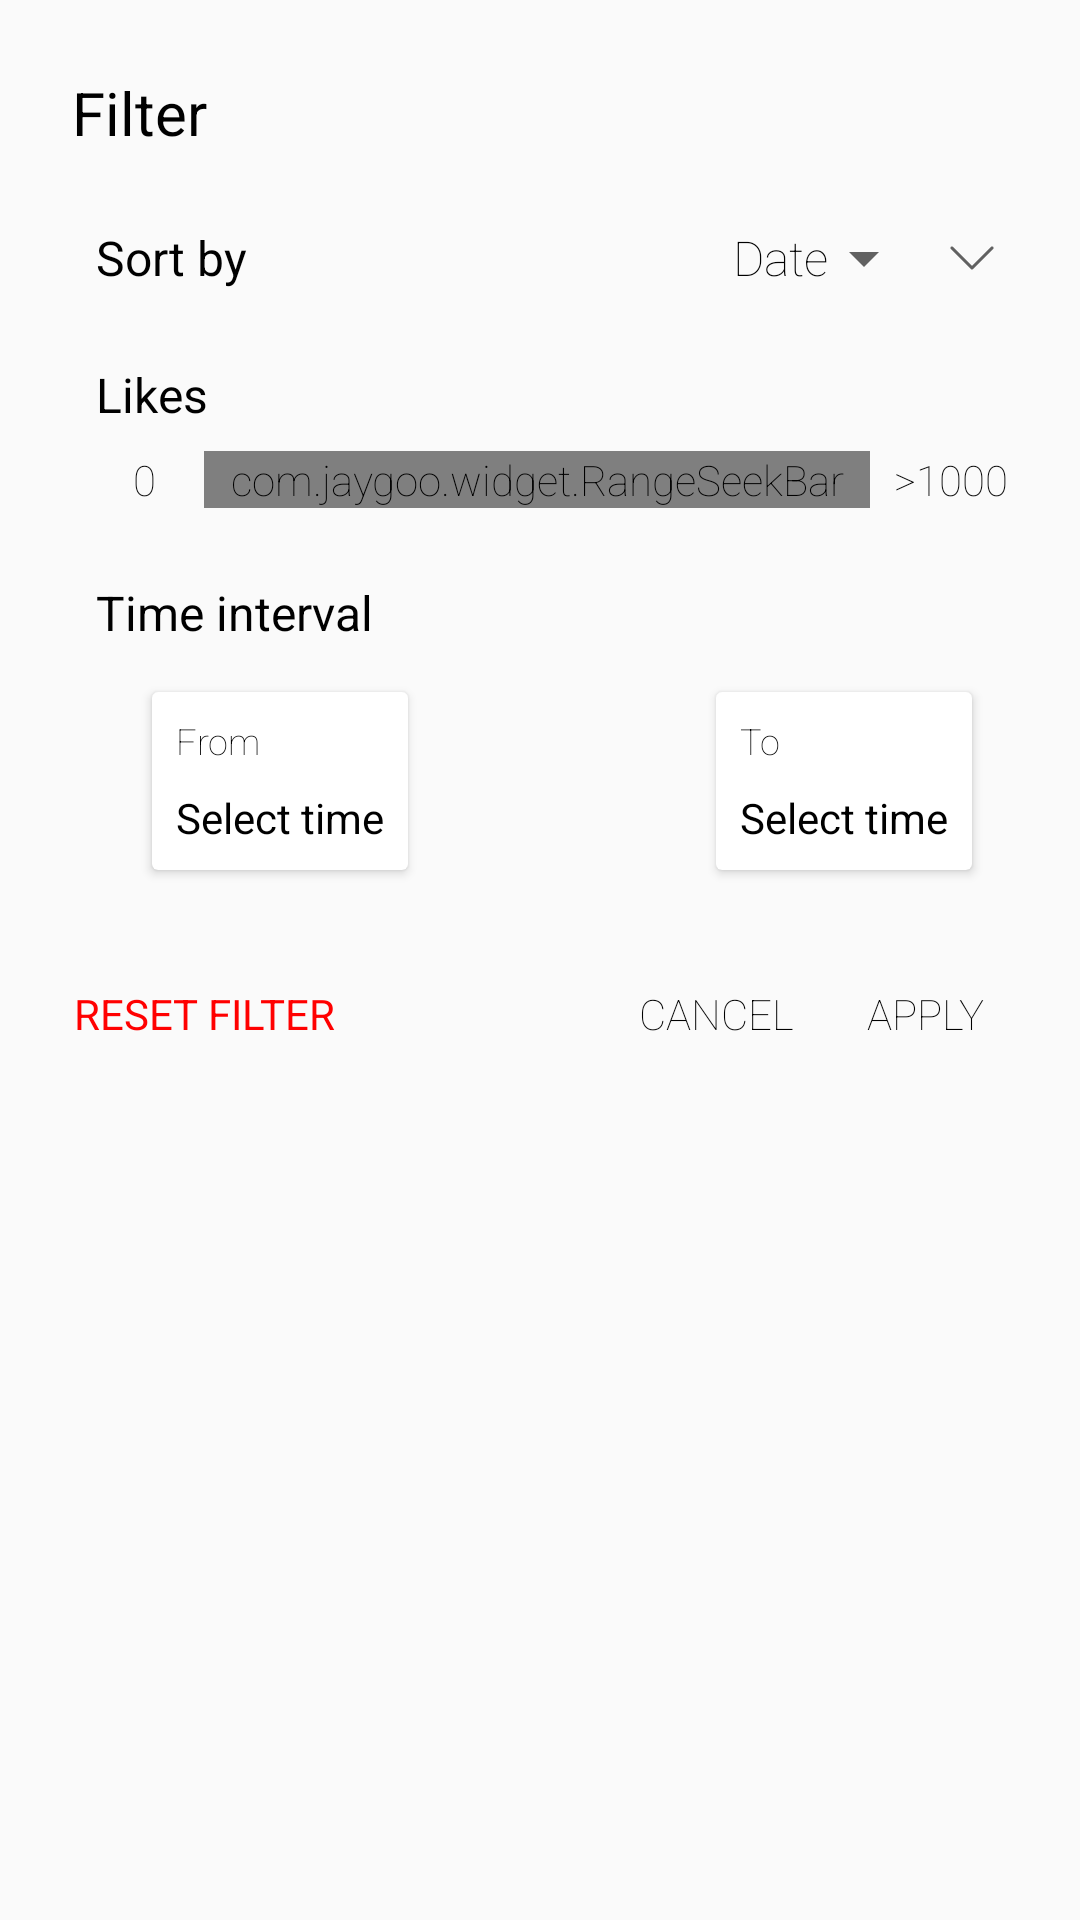

Screen size 1080px×1920px. Icon name, then its center in pixels as point (x, y):
arrow down: point (972, 258)
